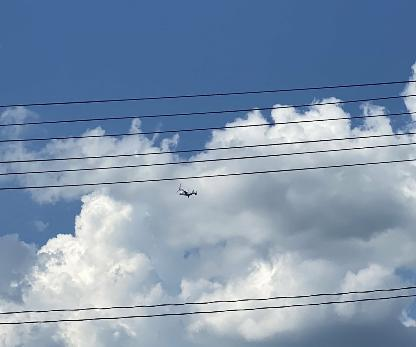Tornado: (176, 183, 197, 198)
